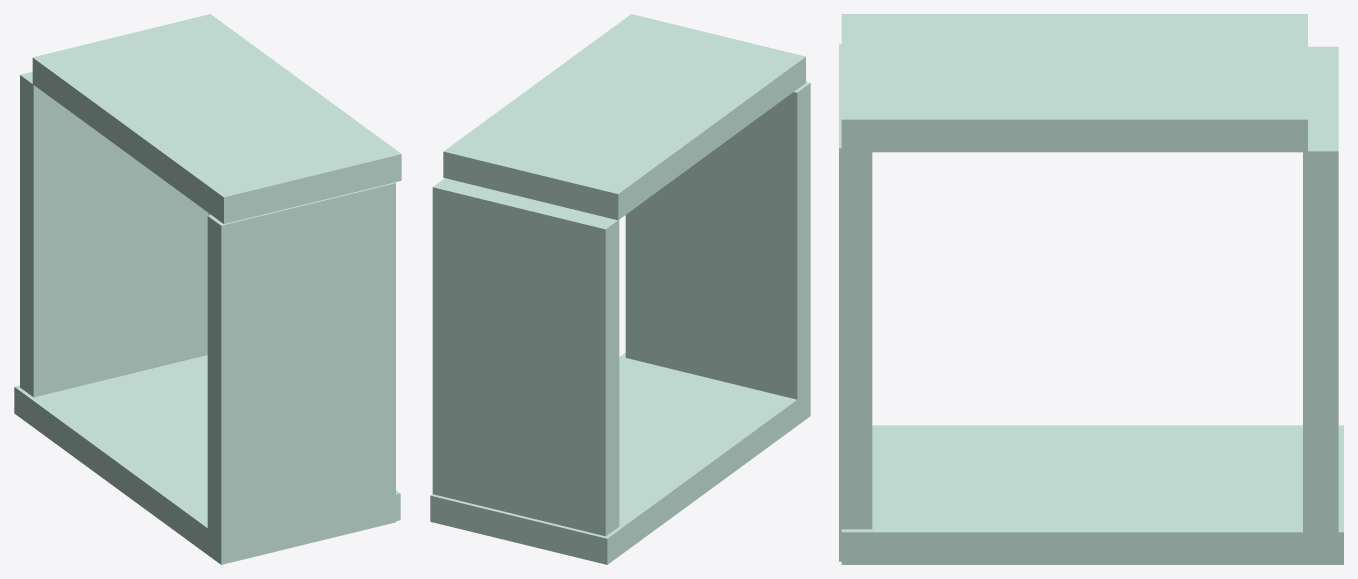
3 views of the same model, side by side, from view 1: azimuth 30°, elevation 25°; view 2: azimuth 150°, elevation 25°; view 3: azimuth 270°, elevation 25° (orthographic). The views are drawn at different scales.
Parts seen in each view (by area): view 1: Renderer Node; view 2: Renderer Node; view 3: Renderer Node.
Boxes of the visible parts, <box> form: Renderer Node: <box>14,14,401,564</box>; Renderer Node: <box>430,14,810,564</box>; Renderer Node: <box>839,14,1343,564</box>.
Size of the model in its own units: 0.3895 by 0.75 by 0.7696.
